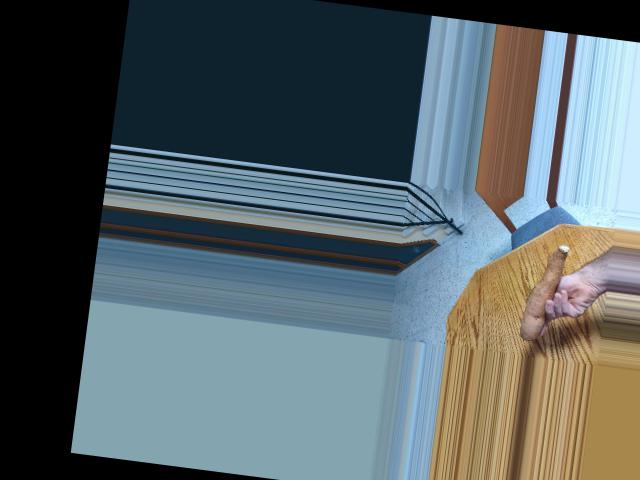sweet_potato: (517, 240, 573, 346)
